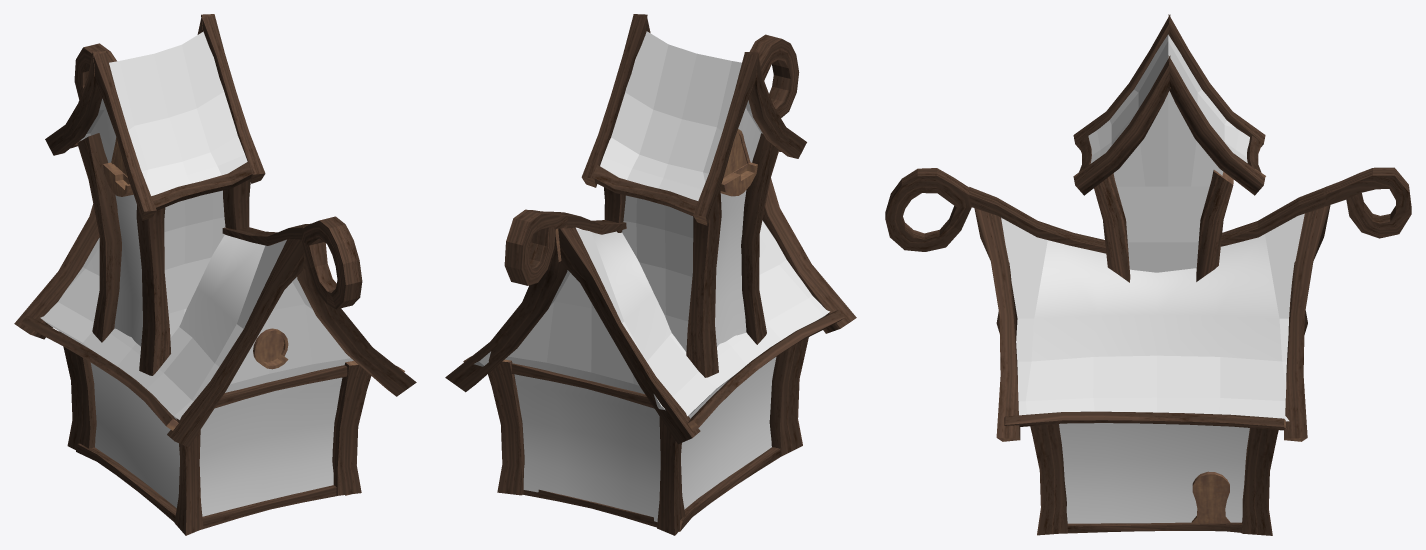
File: NewHouse1.fbx
3 renders of one model, left to right at view 1: azimuth 30°, elevation 25°; view 2: azimuth 150°, elevation 25°; view 3: azimuth 270°, elevation 25°, orthographic. The views are drawn at different scales.
Visible parts, largest first — view 1: Object1226, Box1158, Object1141, Object1227, Object1221, Object1144, Object1140, Object1211, Object1105, Object1102, Object1143, Object1223 (+14 smaller); view 2: Object1226, Object1141, Box1158, Object1227, Object1223, Object1144, Object1222, Object1140, Object1210, Object1213, Object1219, Object1221 (+13 smaller); view 3: Box1158, Object1226, Object1227, Object1222, Object1105, Object1141, Object1211, Box1157, Object1210, Object1106, Object1149, Object1150 (+8 smaller).
Part boxes in pixels (x1,y1,x2,y2): Object1226: [90, 282, 353, 516]; Box1158: [40, 234, 318, 419]; Object1141: [80, 31, 247, 195]; Object1227: [90, 107, 225, 346]; Object1221: [167, 238, 304, 447]; Object1144: [77, 133, 121, 342]; Object1140: [136, 205, 170, 375]; Object1211: [301, 216, 362, 309]; Object1105: [297, 253, 416, 396]; Object1102: [332, 361, 371, 495]; Object1143: [92, 51, 156, 220]; Object1223: [14, 204, 99, 339]; Object1226: [505, 273, 776, 521]; Object1141: [600, 31, 762, 200]; Box1158: [474, 220, 829, 416]; Object1227: [622, 107, 760, 351]; Object1223: [558, 227, 700, 444]; Object1144: [686, 187, 721, 377]; Object1222: [445, 228, 567, 392]; Object1140: [741, 133, 779, 344]; Object1210: [504, 209, 567, 285]; Object1213: [488, 359, 524, 495]; Object1219: [769, 337, 808, 456]; Object1221: [762, 178, 856, 333]; Box1158: [1001, 213, 1304, 421]; Object1226: [1059, 423, 1249, 523]; Object1227: [1113, 91, 1223, 272]; Object1222: [1284, 205, 1330, 441]; Object1105: [974, 208, 1020, 441]; Object1141: [1088, 34, 1249, 163]; Object1211: [885, 168, 971, 251]; Box1157: [969, 187, 1326, 253]; Object1210: [1323, 167, 1411, 238]; Object1106: [1004, 411, 1286, 430]; Object1149: [1073, 55, 1170, 195]; Object1150: [1168, 55, 1265, 195].
Bounding box in the file's own units: 462 × 825 × 897.
